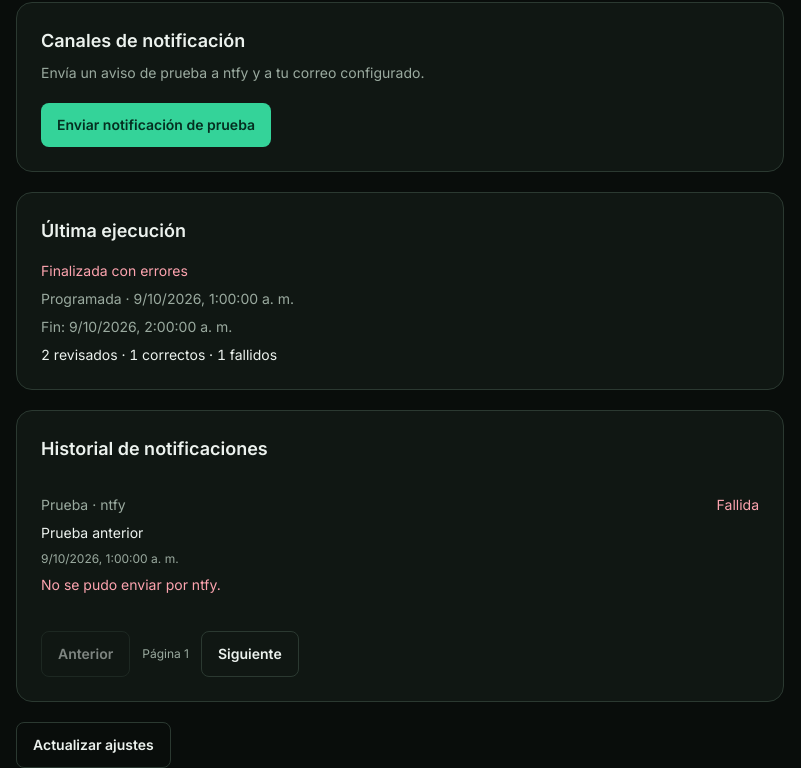
settings › shows run status and paginates notification history
The width and height of the screenshot is (801, 768).
(page scrolled)
Expected: the text "Finalizada con errores" is shown, x1=41 y1=262 x2=188 y2=279
Expected: the text "2 revisados · 1 correctos · 1 fallidos" is shown, x1=41 y1=346 x2=277 y2=363
Click the button "Siguiente" at (250, 654), box x1=201 y1=631 x2=299 y2=677
(page scrolled)
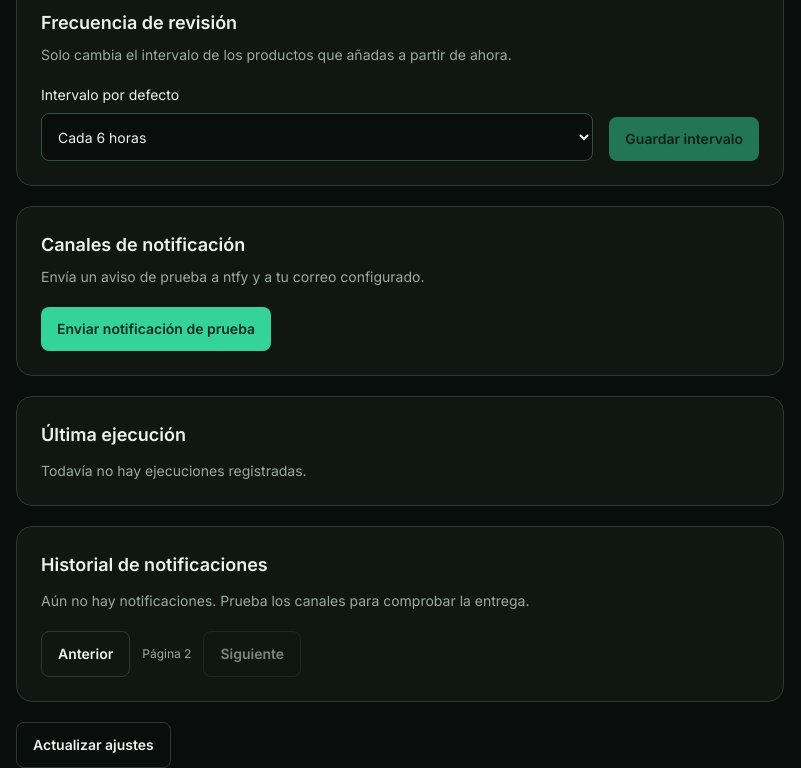
Result: the text "Aún no hay notificaciones" is shown at x1=41 y1=592 x2=530 y2=609
Result: the text "Página 2" is shown at x1=142 y1=646 x2=191 y2=662
